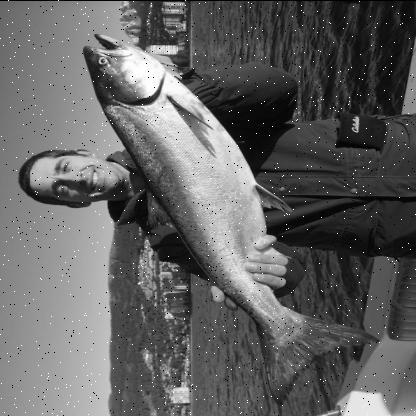fish: (82, 33, 378, 406)
